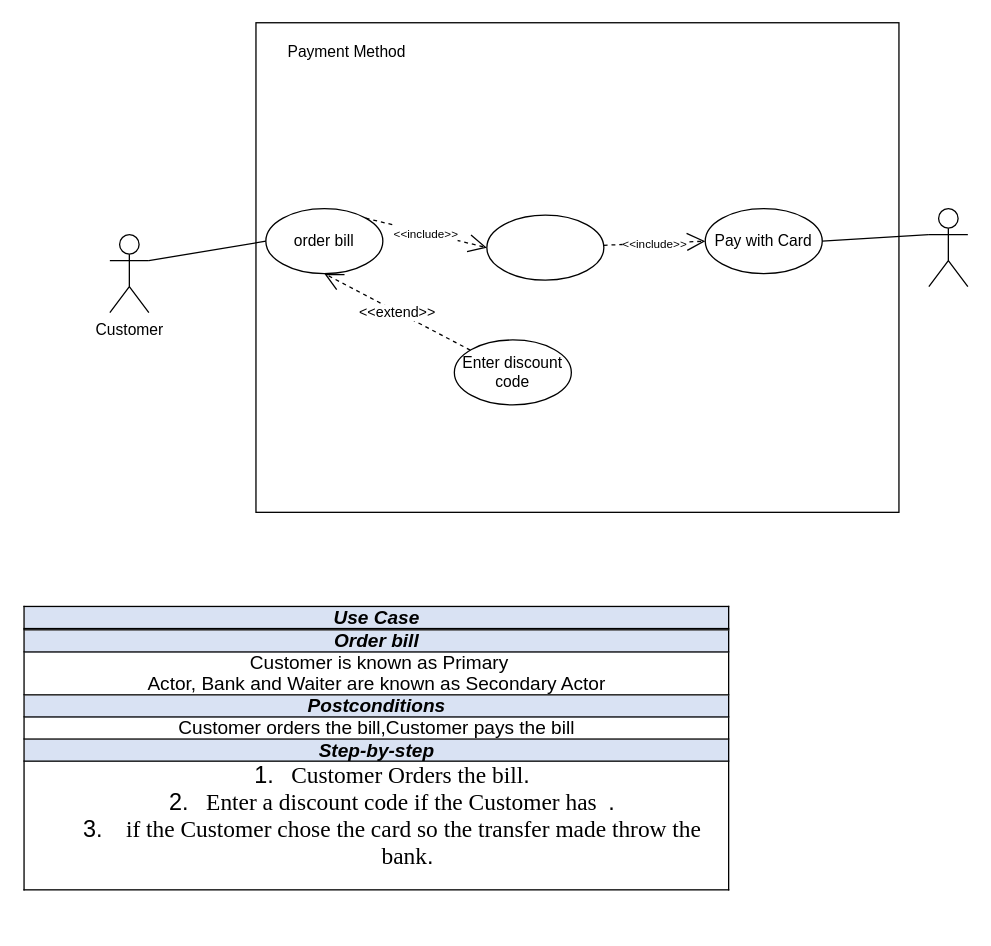
This 991x946 diagram has some shape labels left out. The centre of each missing label's shape, as x and y in pixels:
"Bank" belongs at (948,247).
"Pay bill" belongs at (545,247).
